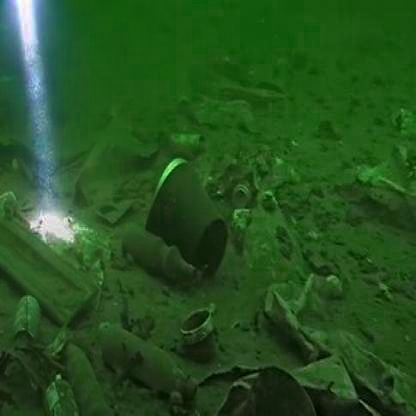plastic: (142, 150, 242, 286)
